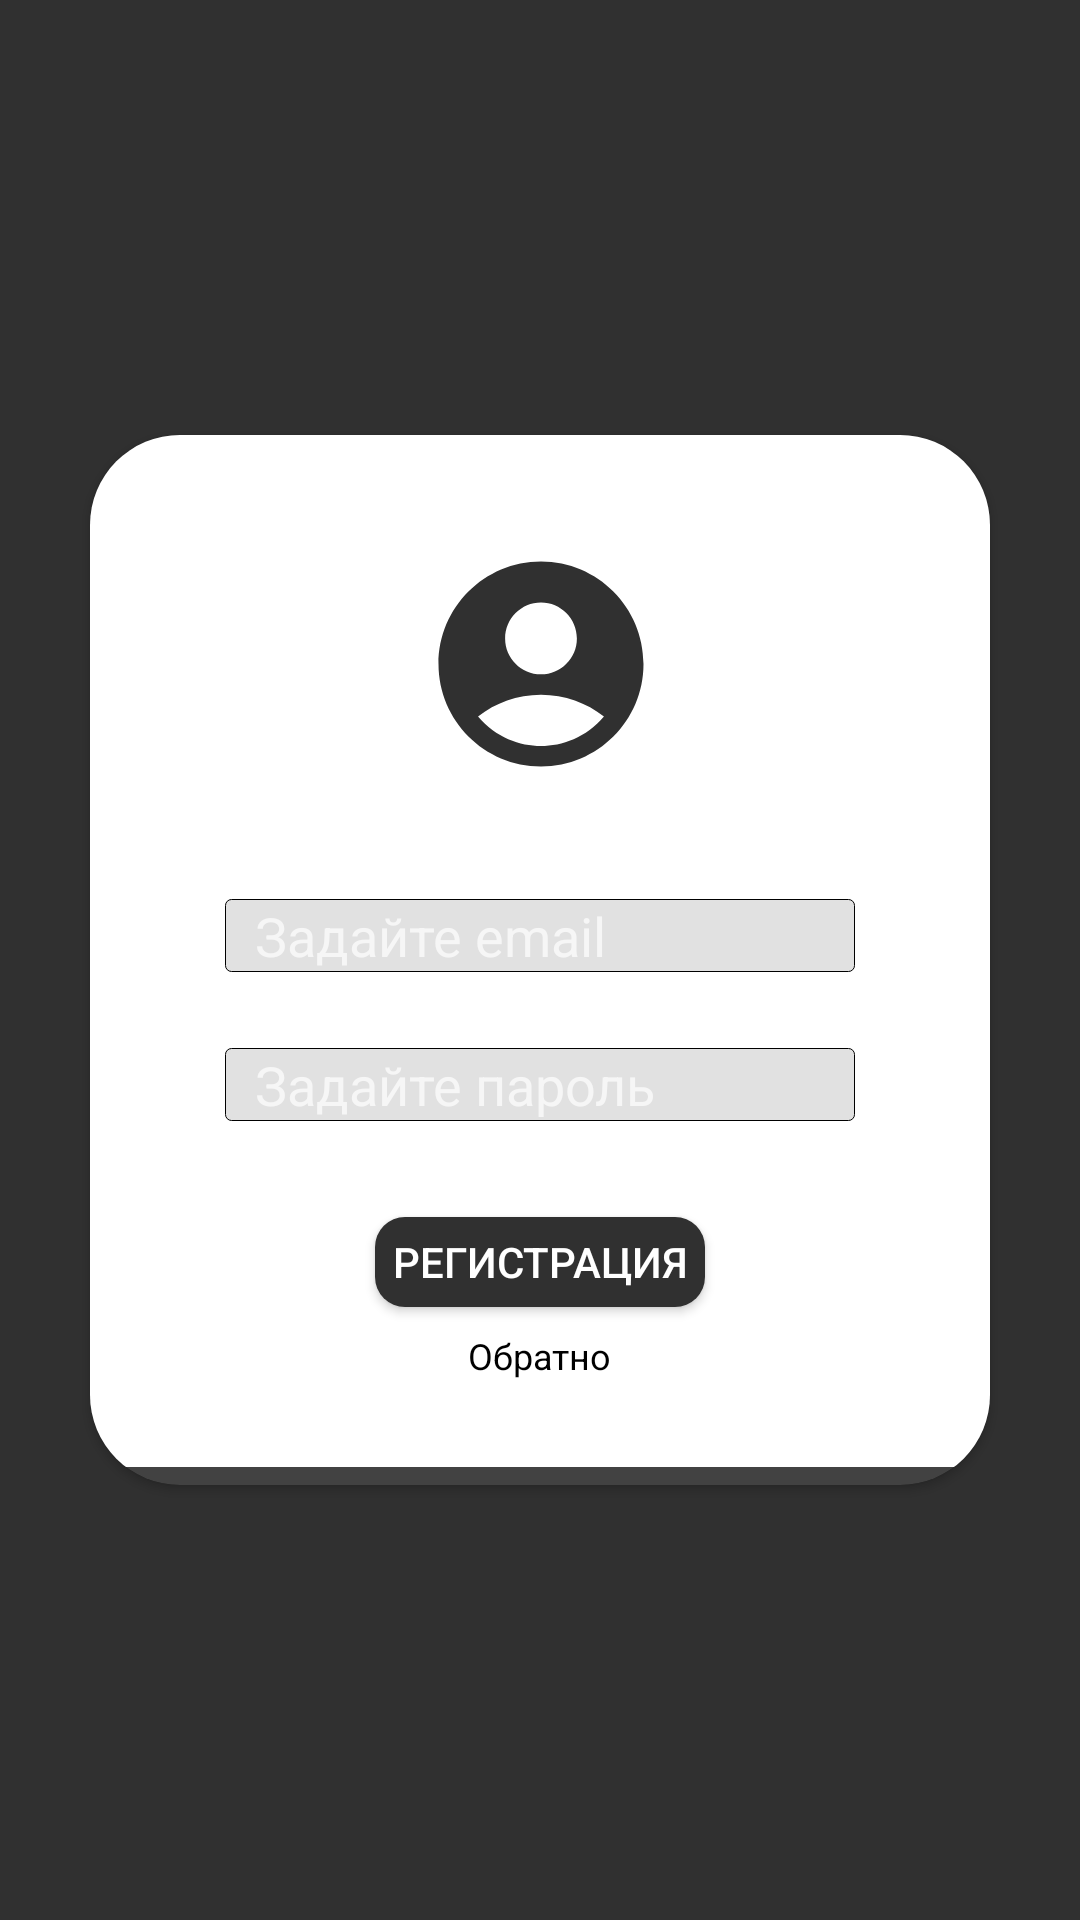

Where to tap for icons on this 1080 × 1920 app screen, as [x,y]:
account: [541,664]
